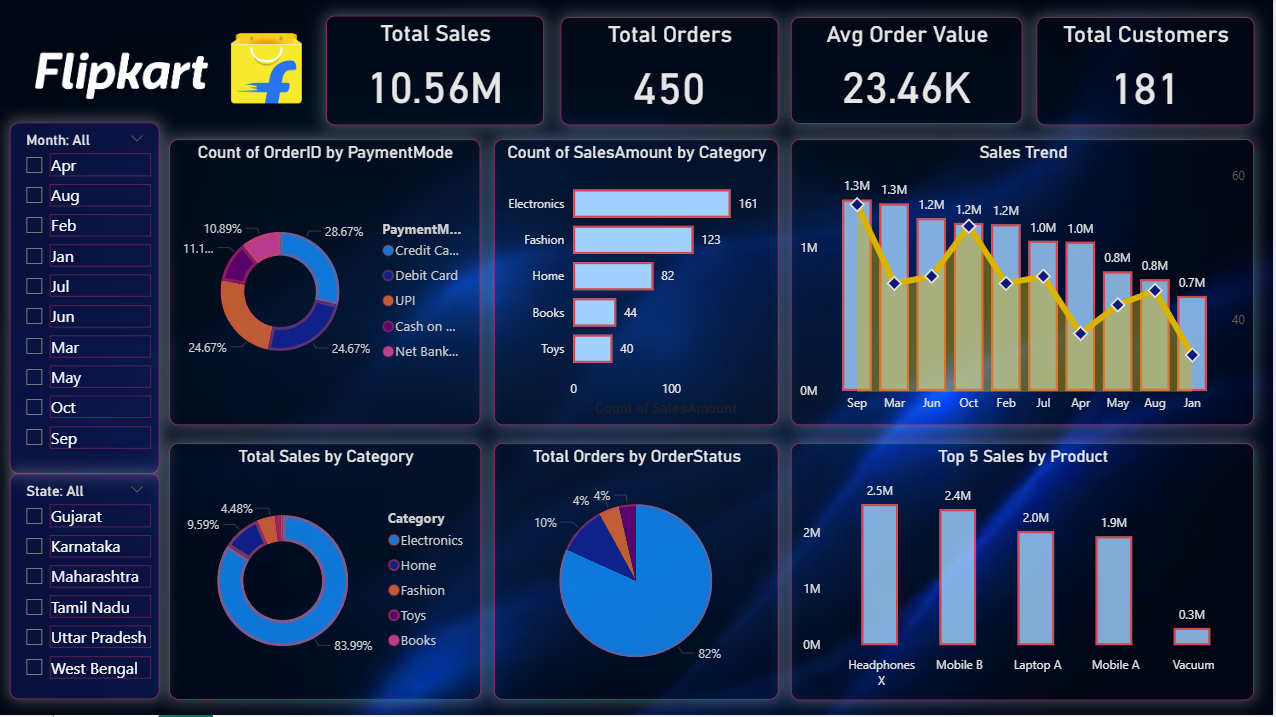

What the dashboard file says about the page in this screenshot:
{"tool":"powerbi","page":{"name":"Page 1","canvas":[1280,720],"ordinal":0},"visuals":[{"type":"clusteredBarChart","fields":{"Category":["Sheet1.Category"],"Y":["CountNonNull(Sheet1.SalesAmount)"]},"box":[496.6,140.9,286,287.4],"z":0},{"type":"lineClusteredColumnComboChart","title":"Sales Trend","fields":{"Category":["Sheet1.Month"],"Y2":["Sheet1.Total Orders"],"Y":["Sum(Sheet1.SalesAmount)"]},"box":[795.1,140.9,465.9,287.4],"z":1000},{"type":"card","title":"Total Customers","fields":{"Values":["Sheet1.Total Customers"]},"box":[1042,18.1,219,108.8],"z":2000},{"type":"card","title":"Total Orders","fields":{"Values":["Sheet1.Total Orders"]},"box":[563.6,18.1,219,108.8],"z":3000},{"type":"card","title":"Total Sales","fields":{"Values":["Sheet1.Total Sales"]},"box":[327.8,16.7,219,110.2],"z":4000},{"type":"card","title":"Avg Order Value","fields":{"Values":["Sheet1.Avg Order Value"]},"box":[795.1,18.1,233,107.4],"z":5000},{"type":"pieChart","fields":{"Category":["Sheet1.OrderStatus"],"Y":["Sheet1.Total Orders"]},"box":[496.6,446.4,286,258.1],"z":6000},{"type":"donutChart","fields":{"Category":["Sheet1.Category"],"Y":["Sheet1.Total Sales"]},"box":[170.2,446.4,313.9,258.1],"z":7000},{"type":"columnChart","title":"Top 5 Sales by Product","fields":{"Category":["Sheet1.Product"],"Y":["Sheet1.Total Sales"]},"box":[795.7,445.7,465.7,258.6],"z":8000},{"type":"image","box":[19.5,29.3,299.9,80.9],"z":9000},{"type":"donutChart","fields":{"Category":["Sheet1.PaymentMode"],"Y":["CountNonNull(Sheet1.OrderID)"]},"box":[170.2,140.9,312.5,287.4],"z":10000},{"type":"slicer","fields":{"Values":["Sheet1.Month"]},"box":[9.8,124.1,150.7,352.9],"z":11000},{"type":"slicer","fields":{"Values":["Sheet1.State"]},"box":[9.8,477.1,150.7,227.4],"z":12000}]}

Visuals, with their boxes in screenshot pixels (x1, y1, x2, y2), scaled from the page's 1280x720 canvas onto the 1276x717 screenshot:
clusteredBarChart - Sheet1.Category x CountNonNull(Sheet1.SalesAmount): box(495, 140, 780, 427)
"Sales Trend" lineClusteredColumnComboChart: box(793, 140, 1257, 427)
"Total Customers" card: box(1039, 18, 1257, 126)
"Total Orders" card: box(562, 18, 780, 126)
"Total Sales" card: box(327, 17, 545, 126)
"Avg Order Value" card: box(793, 18, 1025, 125)
pieChart - Sheet1.OrderStatus x Sheet1.Total Orders: box(495, 445, 780, 702)
donutChart - Sheet1.Category x Sheet1.Total Sales: box(170, 445, 483, 702)
"Top 5 Sales by Product" columnChart: box(793, 444, 1257, 701)
image: box(19, 29, 318, 110)
donutChart - Sheet1.PaymentMode x CountNonNull(Sheet1.OrderID): box(170, 140, 481, 427)
slicer - Sheet1.Month: box(10, 124, 160, 475)
slicer - Sheet1.State: box(10, 475, 160, 702)
